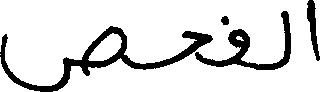X: (0, 21, 126, 91), (183, 26, 210, 69), (229, 24, 247, 71), (308, 0, 319, 65), (281, 6, 289, 71)
